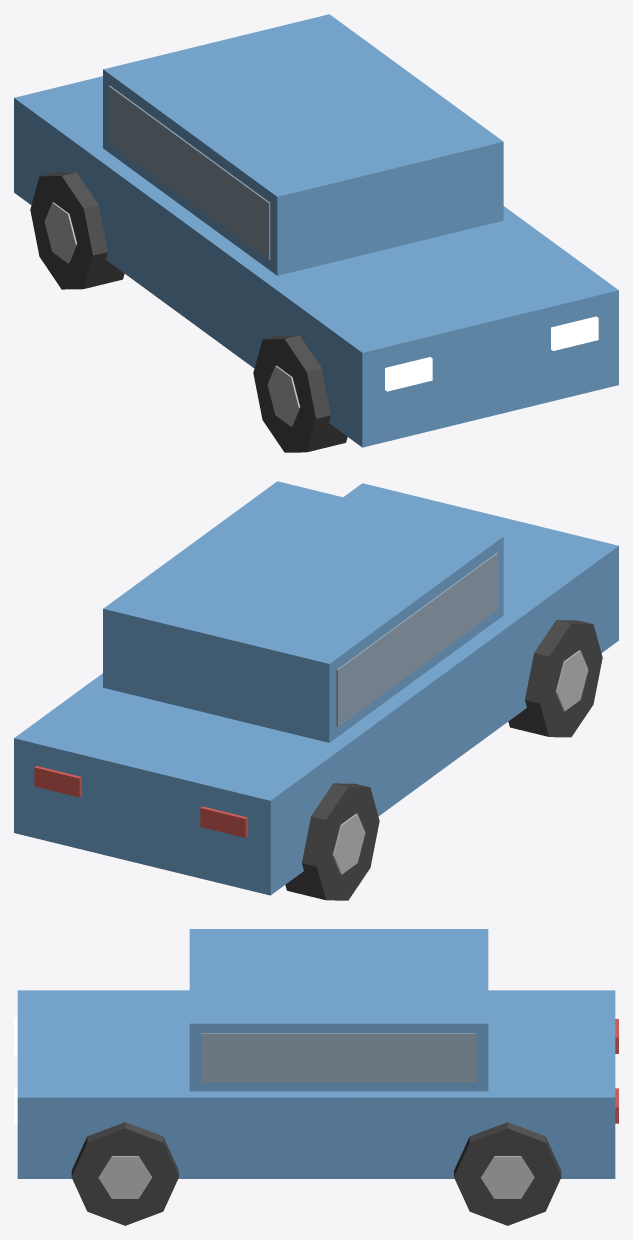
The model's file is car.glb.
3 views of the same model, one above another, from view 1: azimuth 30°, elevation 25°; view 2: azimuth 150°, elevation 25°; view 3: azimuth 270°, elevation 25° (orthographic). The views are drawn at different scales.
Parts seen in each view (by area): view 1: car; view 2: car; view 3: car.
Part boxes in pixels (bbox=[...]): car: bbox=[14, 14, 618, 452]; car: bbox=[14, 481, 618, 900]; car: bbox=[14, 929, 618, 1225].
Size of the model in its own units: 1.92 by 1.4 by 4.05.
